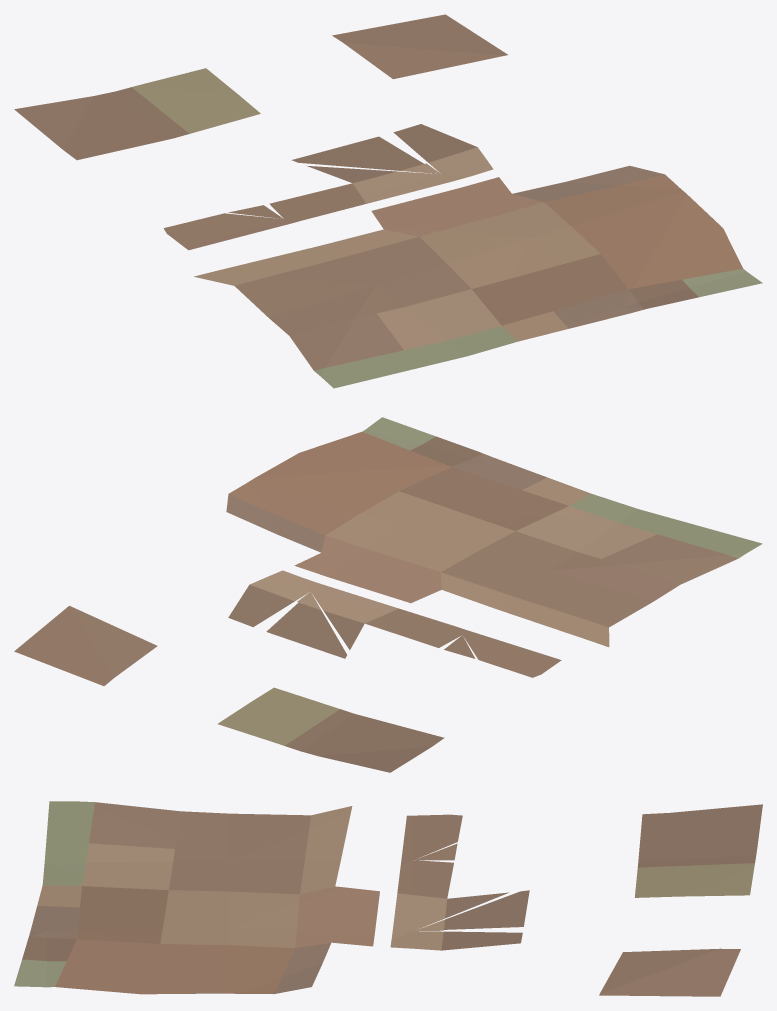
The model's file is farm_14_9_soil.glb.
The picture shows the model from 3 angles, top to bottom: view 1: azimuth 30°, elevation 25°; view 2: azimuth 150°, elevation 25°; view 3: azimuth 270°, elevation 25°; orthographic projection. The views are drawn at different scales.
Visible parts, largest first — view 1: geometry_0; view 2: geometry_0; view 3: geometry_0.
Part boxes in pixels (box(x1,y1,x2,y2)): geometry_0: box(14, 14, 762, 388); geometry_0: box(14, 417, 762, 772); geometry_0: box(14, 801, 762, 996).
Size of the model in its own units: 227 by 12.8 by 326.
